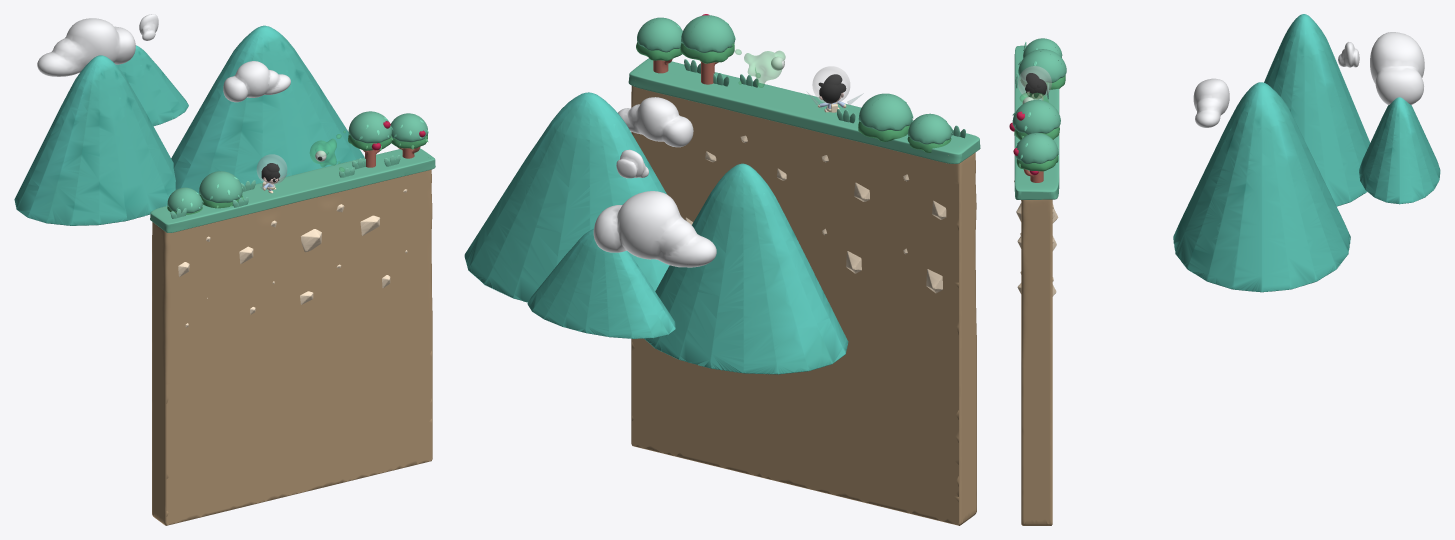
3 renders of one model, left to right at view 1: azimuth 30°, elevation 25°; view 2: azimuth 150°, elevation 25°; view 3: azimuth 270°, elevation 25°, orthographic. The views are drawn at different scales.
Parts seen in each view (by area): view 1: Box.001, Cone 2, Cone 1, Box.002, UV Sphere 13, Cone, UV Sphere 11, UV Sphere 18, UV Sphere.004, UV Sphere 29, UV Sphere, UV Sphere 45 (+1 smaller); view 2: Box.001, Cone 2, Cone 1, Cone, Box.002, UV Sphere 13, UV Sphere 11, UV Sphere 18, UV Sphere.004, UV Sphere 29, UV Sphere, UV Sphere 45 (+2 smaller); view 3: Cone 1, Box.001, Cone 2, Cone, UV Sphere 13, Box.002, UV Sphere 11, UV Sphere.004, UV Sphere 18, UV Sphere 29, UV Sphere.
Boxes of the visible parts, bbox=[...] form: Box.001: bbox=[152, 169, 432, 525]; Cone 2: bbox=[14, 55, 175, 225]; Cone 1: bbox=[171, 25, 364, 193]; Box.002: bbox=[150, 148, 435, 232]; UV Sphere 13: bbox=[37, 18, 135, 76]; Cone: bbox=[116, 45, 188, 126]; UV Sphere 11: bbox=[223, 61, 290, 102]; UV Sphere 18: bbox=[199, 171, 242, 202]; UV Sphere.004: bbox=[348, 111, 392, 143]; UV Sphere 29: bbox=[390, 113, 427, 142]; UV Sphere: bbox=[257, 154, 286, 184]; UV Sphere 45: bbox=[167, 187, 202, 213]; Box.001: bbox=[631, 86, 976, 525]; Cone 2: bbox=[644, 163, 848, 374]; Cone 1: bbox=[464, 92, 669, 302]; Cone: bbox=[527, 228, 675, 338]; Box.002: bbox=[628, 58, 980, 163]; UV Sphere 13: bbox=[593, 191, 716, 267]; UV Sphere 11: bbox=[618, 97, 693, 147]; UV Sphere 18: bbox=[858, 93, 912, 131]; UV Sphere.004: bbox=[681, 15, 734, 52]; UV Sphere 29: bbox=[637, 17, 682, 52]; UV Sphere: bbox=[812, 66, 849, 103]; UV Sphere 45: bbox=[908, 113, 951, 144]; Cone 1: bbox=[1173, 82, 1350, 292]; Box.001: bbox=[1021, 199, 1052, 525]; Cone 2: bbox=[1264, 14, 1369, 206]; Cone: bbox=[1359, 97, 1440, 204]; UV Sphere 13: bbox=[1370, 32, 1424, 105]; Box.002: bbox=[1014, 45, 1059, 199]; UV Sphere 11: bbox=[1193, 78, 1229, 127]; UV Sphere.004: bbox=[1012, 99, 1060, 134]; UV Sphere 18: bbox=[1018, 49, 1066, 82]; UV Sphere 29: bbox=[1015, 133, 1058, 163]; UV Sphere: bbox=[1018, 66, 1051, 99].
Size of the model in its own units: 9.05 by 10.18 by 9.69.
